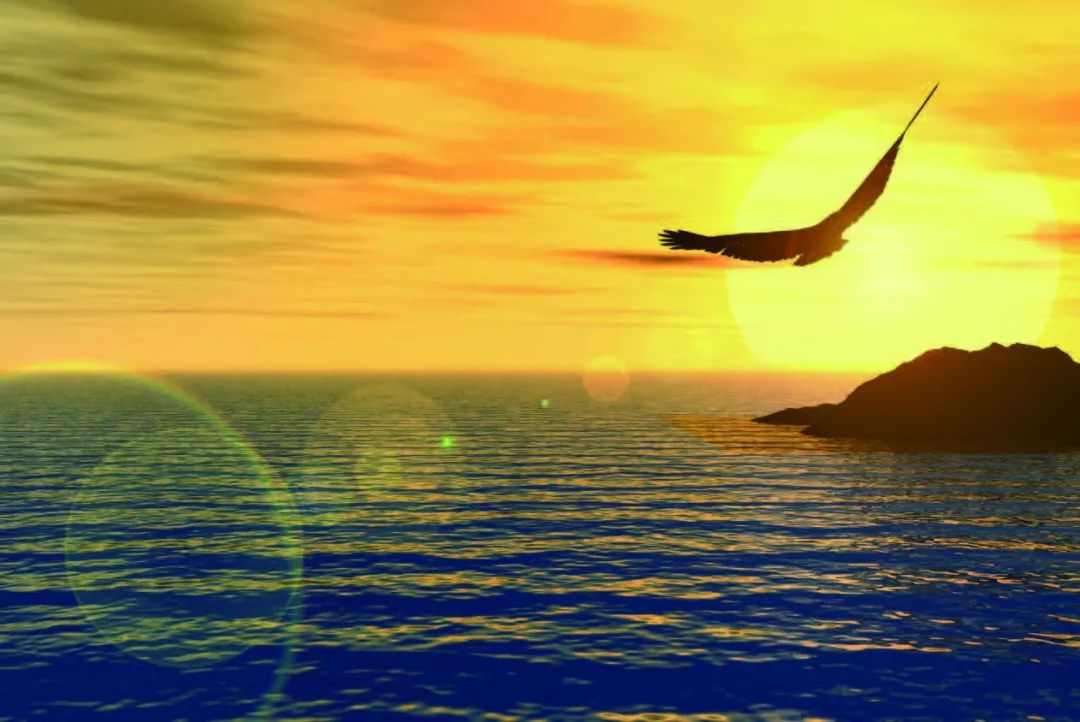bird: (653, 82, 943, 283)
